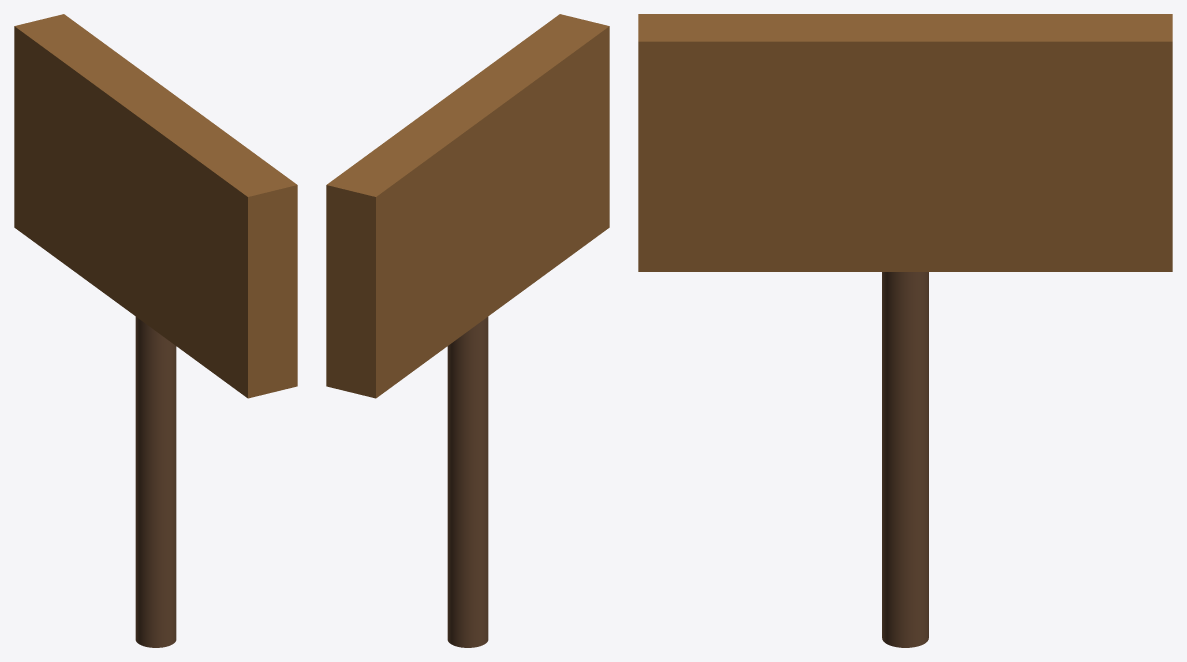
The model's file is sign 1.fbx.
3 renders of one model, left to right at view 1: azimuth 30°, elevation 25°; view 2: azimuth 150°, elevation 25°; view 3: azimuth 270°, elevation 25°, orthographic. The views are drawn at different scales.
Parts seen in each view (by area): view 1: Cube, Cylinder; view 2: Cube, Cylinder; view 3: Cube, Cylinder.
Part boxes in pixels (box(x1,y1,x2,y2)): Cube: box(14, 14, 297, 398); Cylinder: box(135, 317, 176, 647); Cube: box(326, 14, 609, 398); Cylinder: box(447, 317, 488, 647); Cube: box(638, 14, 1172, 271); Cylinder: box(882, 272, 928, 647).
Size of the model in its own units: 214 by 26.24 by 269.
